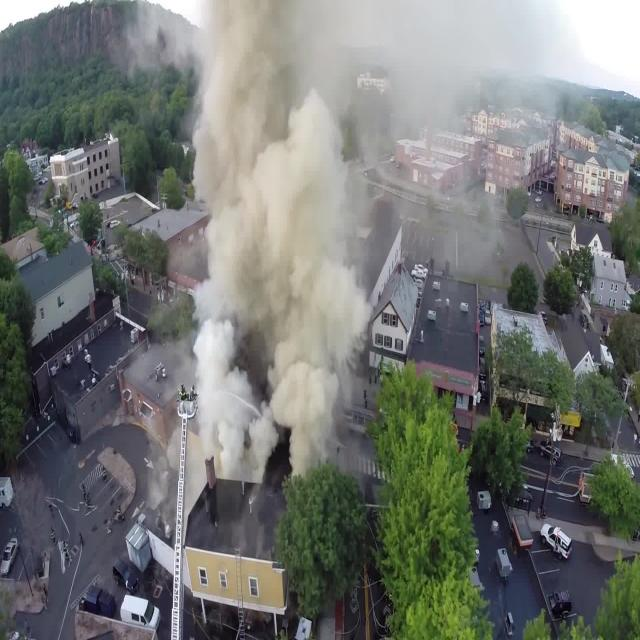Smoke: (189, 0, 371, 491)
